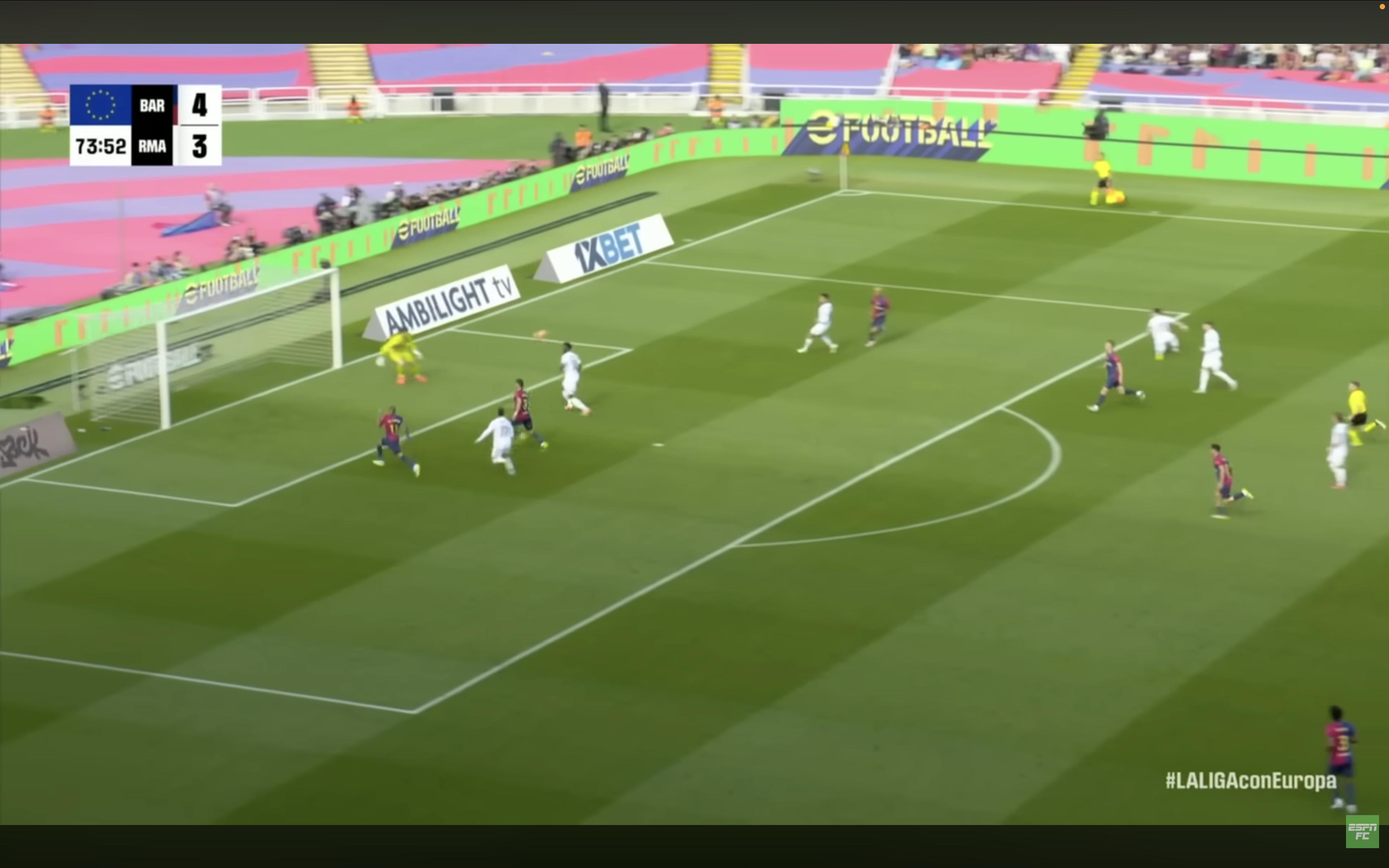ball: (535, 329, 547, 341)
goalkeeper: (377, 329, 426, 384)
player: (1088, 341, 1145, 411), (1325, 706, 1357, 813), (373, 406, 420, 477), (1210, 444, 1253, 519), (1195, 322, 1238, 393), (475, 408, 516, 475), (797, 293, 838, 353), (512, 379, 547, 449), (560, 342, 591, 415), (1148, 308, 1188, 361), (1327, 413, 1350, 489), (866, 288, 890, 347)
referee: (1348, 382, 1385, 446), (1090, 152, 1126, 205)
